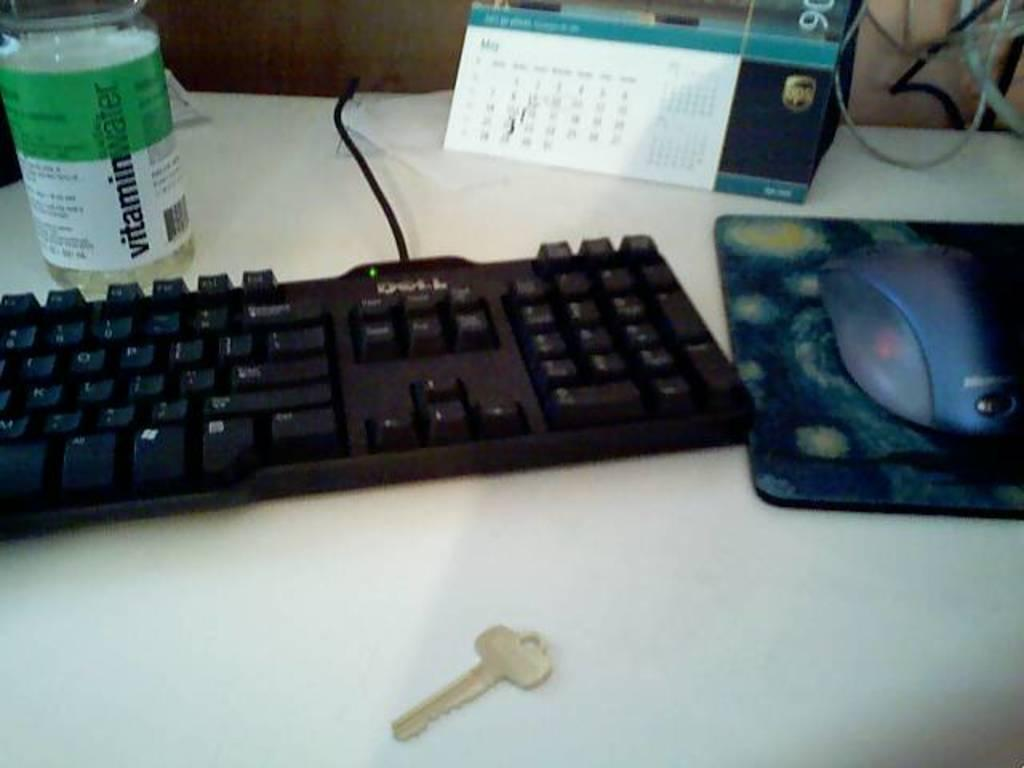Computer-mouse: (818, 238, 1022, 438)
